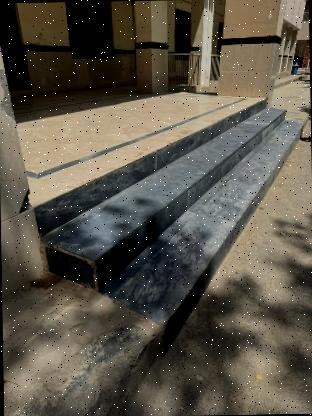stair: (30, 93, 306, 341)
